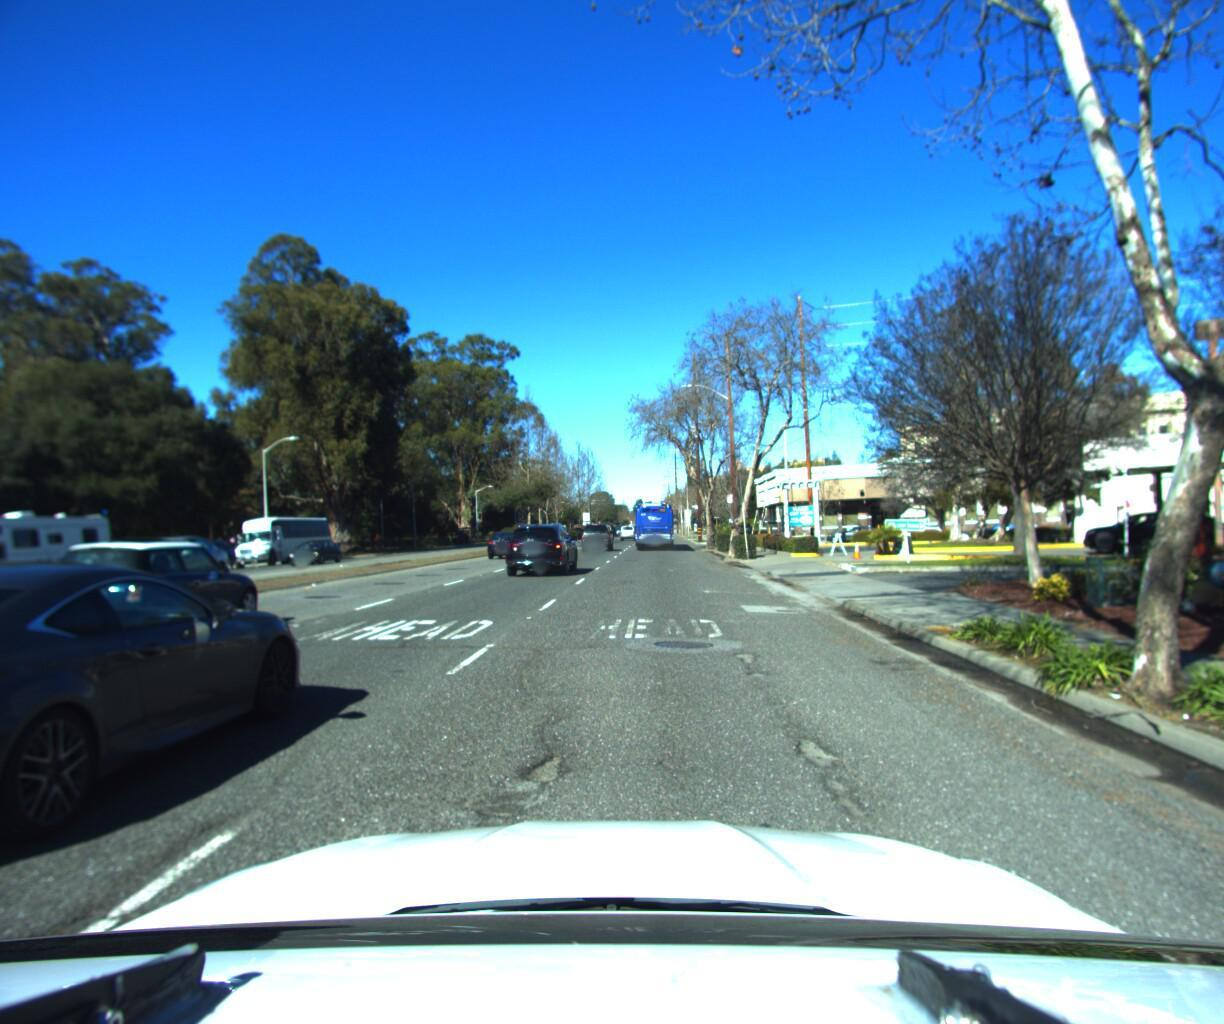bus: (222, 513, 338, 567), (630, 495, 677, 547)
car: (45, 533, 286, 651), (74, 526, 242, 596), (1070, 497, 1221, 544), (499, 518, 582, 575), (154, 535, 246, 575), (283, 533, 348, 564), (478, 520, 534, 555), (822, 518, 885, 539), (576, 519, 613, 548)
